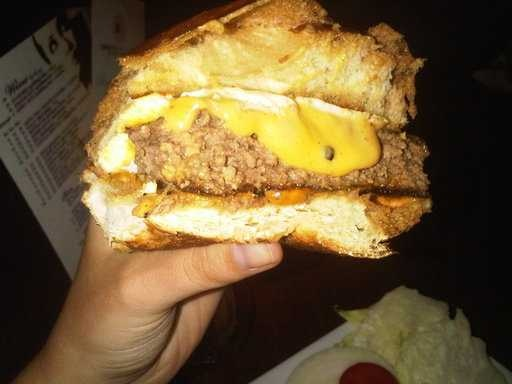hamburger: (51, 15, 464, 250)
